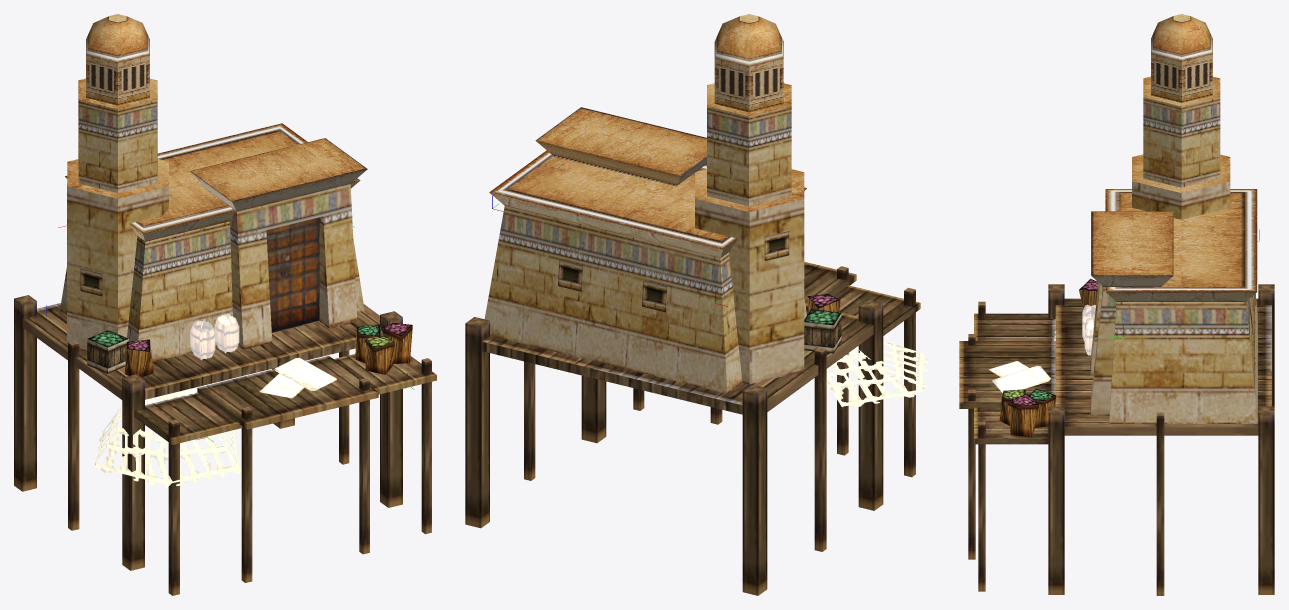
The model's file is age2.glb.
The picture shows the model from 3 angles, left to right: view 1: azimuth 30°, elevation 25°; view 2: azimuth 150°, elevation 25°; view 3: azimuth 270°, elevation 25°; orthographic projection. The views are drawn at different scales.
Visible parts, largest first — view 1: building e tradedock age3Model; view 2: building e tradedock age3Model; view 3: building e tradedock age3Model.
Part boxes in pixels (x1=…): building e tradedock age3Model: x1=14, y1=14, x2=436, y2=595; building e tradedock age3Model: x1=465, y1=14, x2=928, y2=595; building e tradedock age3Model: x1=959, y1=14, x2=1274, y2=595.
Bounding box in the file's own units: 6.72 × 10.02 × 6.03.
7 materials, 6 textured.
